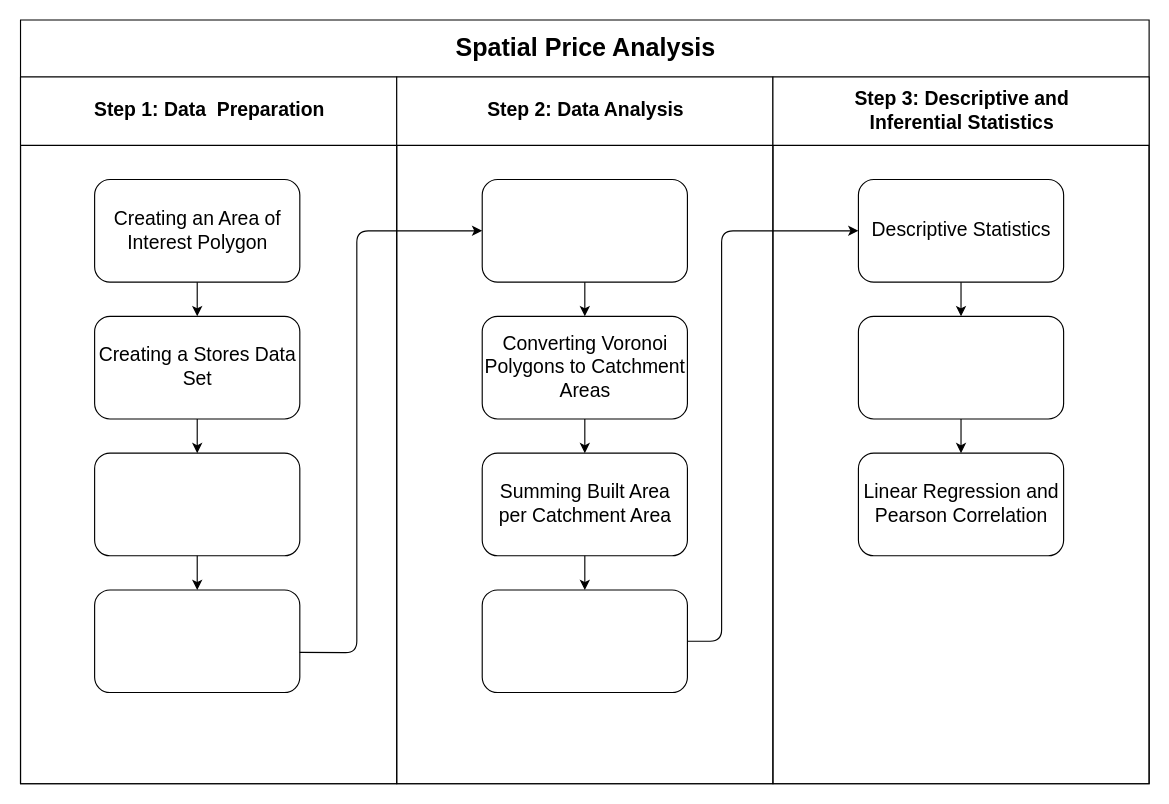
Some shapes in this 1169 by 804 pixel diagram are drawn without their labels. The centre of each missing label's shape, as x and y in pixels:
"Aggregating Data into a Single Store Data Frame" belongs at (x=584, y=641).
"Creating a Buildings Data Set" belongs at (x=196, y=641).
"Creating a Price Data Set" belongs at (x=196, y=504).
"Visualisations" belongs at (x=960, y=367).
"Voronoi Tessellation" belongs at (x=584, y=230).
